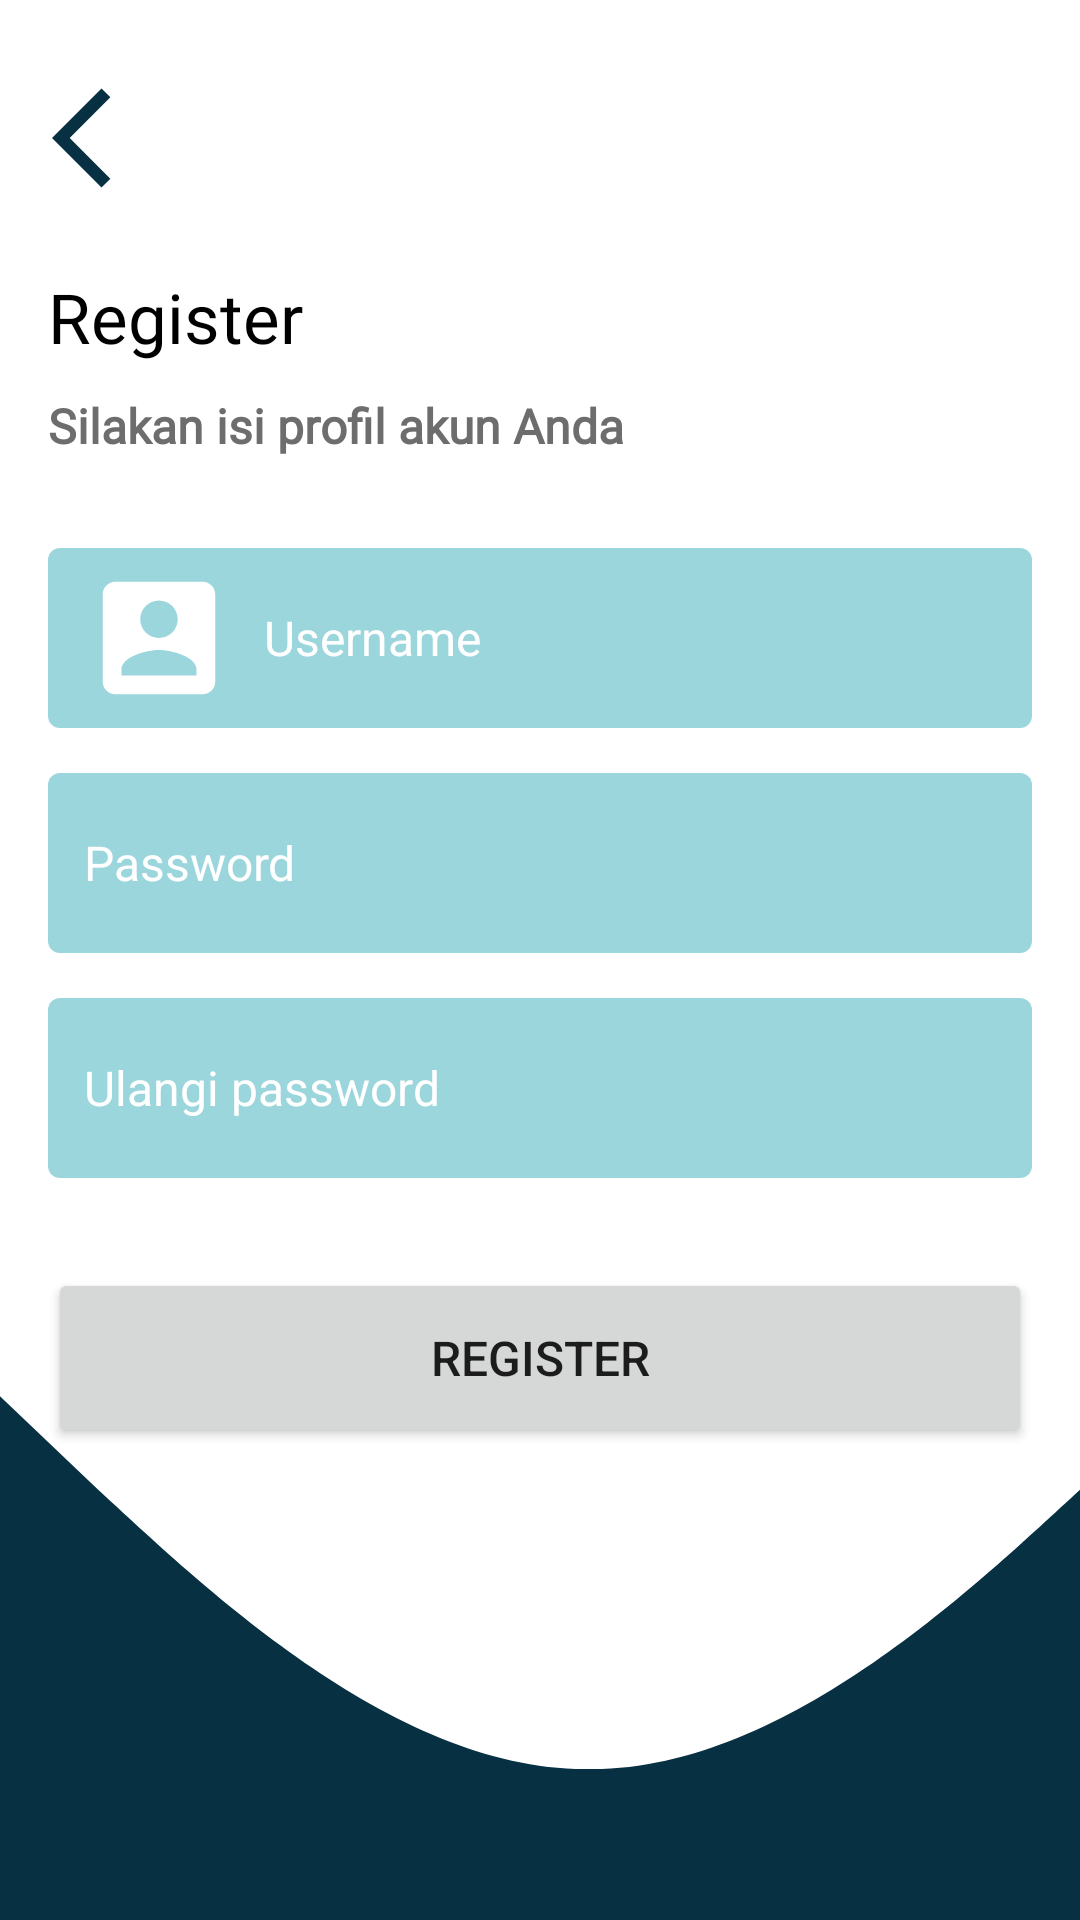

Point at icon controls on the screen. Image size 1080px x 1920px, points as (x=x, y=y).
back: (x=81, y=138)
